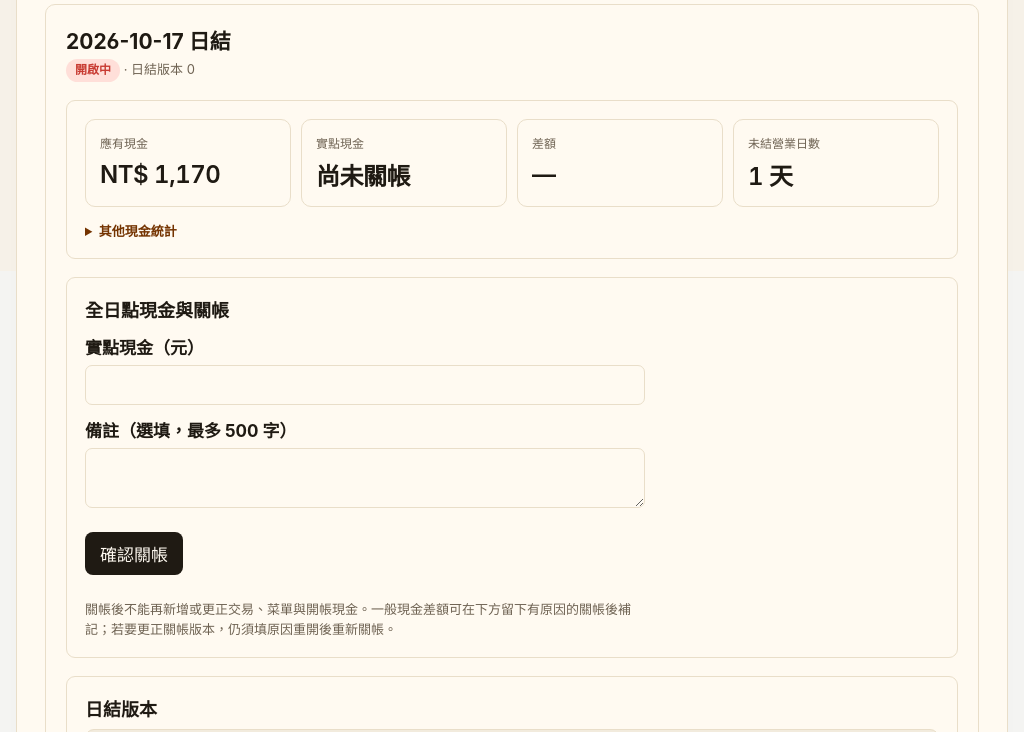
CloudDayClosePage › refuses blank, negative or fractional counted cash without sending
(page scrolled)
Submit the form named "2026-10-17 關帳", box [85,334,645,639]
Type "-5" into the field labelled "實點現金（元）" at (365, 385), box [85,365,645,405]
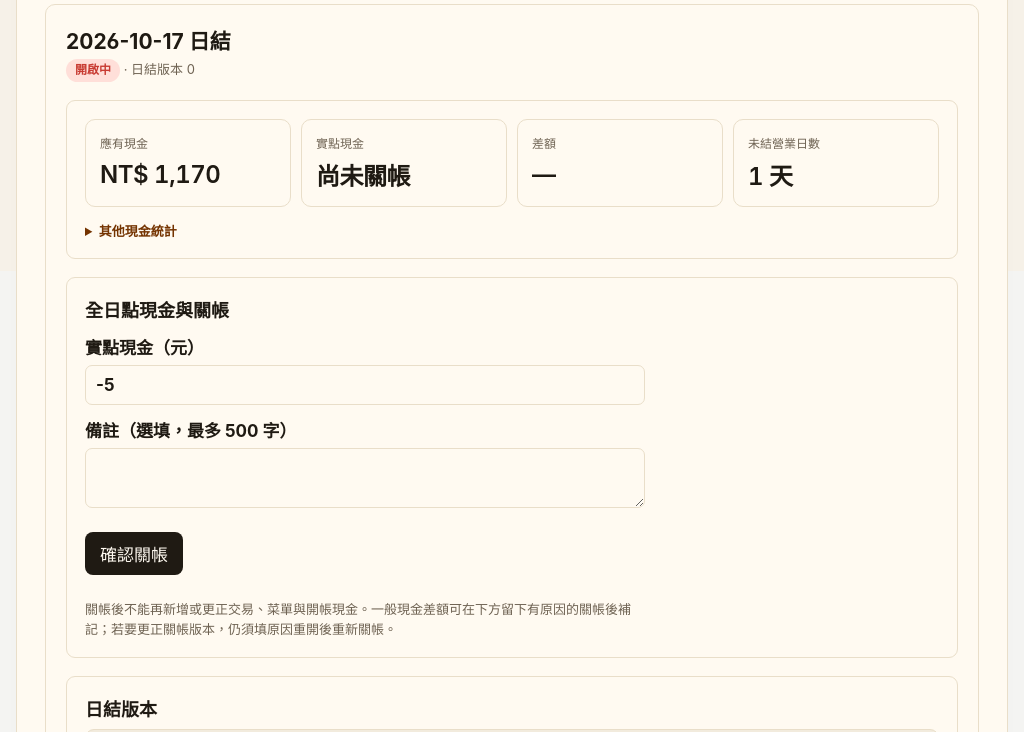
Submit the form named "2026-10-17 關帳", box [85,334,645,639]
Replace the text in the field labelled "實點現金（元）" with "10.5" at (365, 385), box [85,365,645,405]
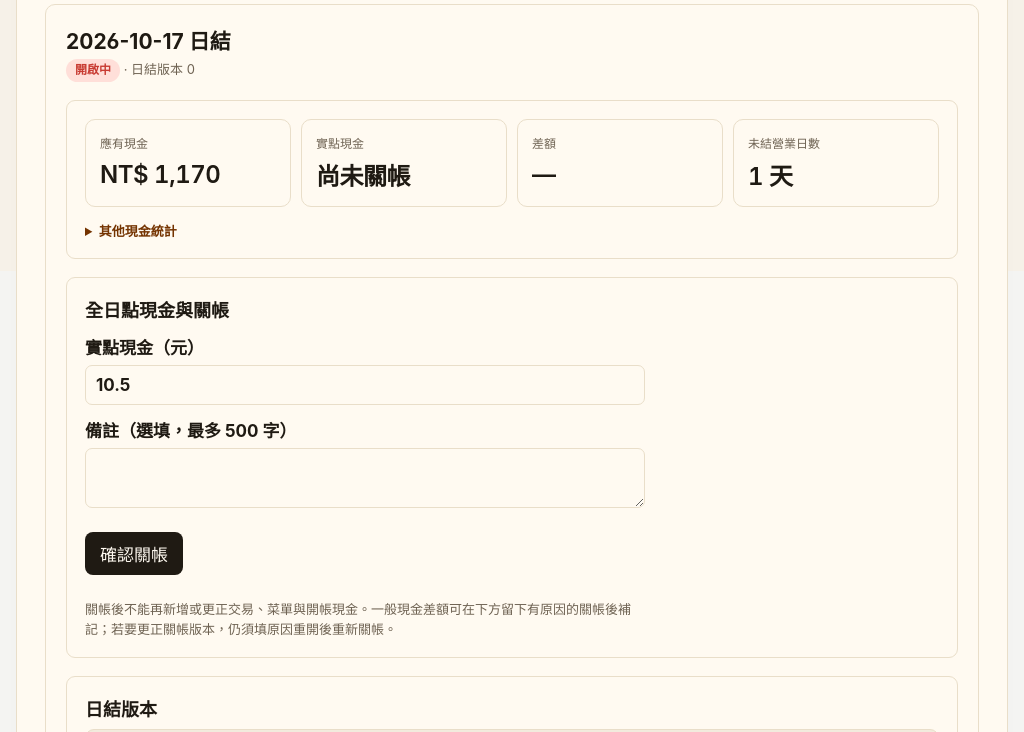
Submit the form named "2026-10-17 關帳", box [85,334,645,639]
Replace the text in the field labelled "實點現金（元）" with "abc" at (365, 385), box [85,365,645,405]
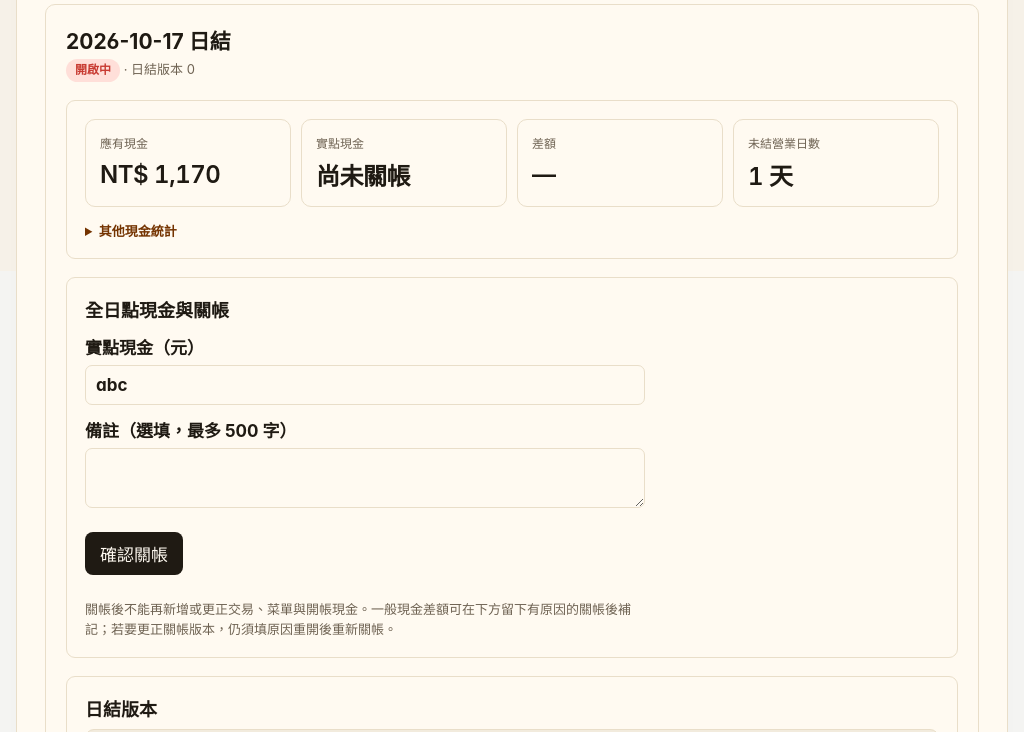
Submit the form named "2026-10-17 關帳", box [85,334,645,639]
(page scrolled)
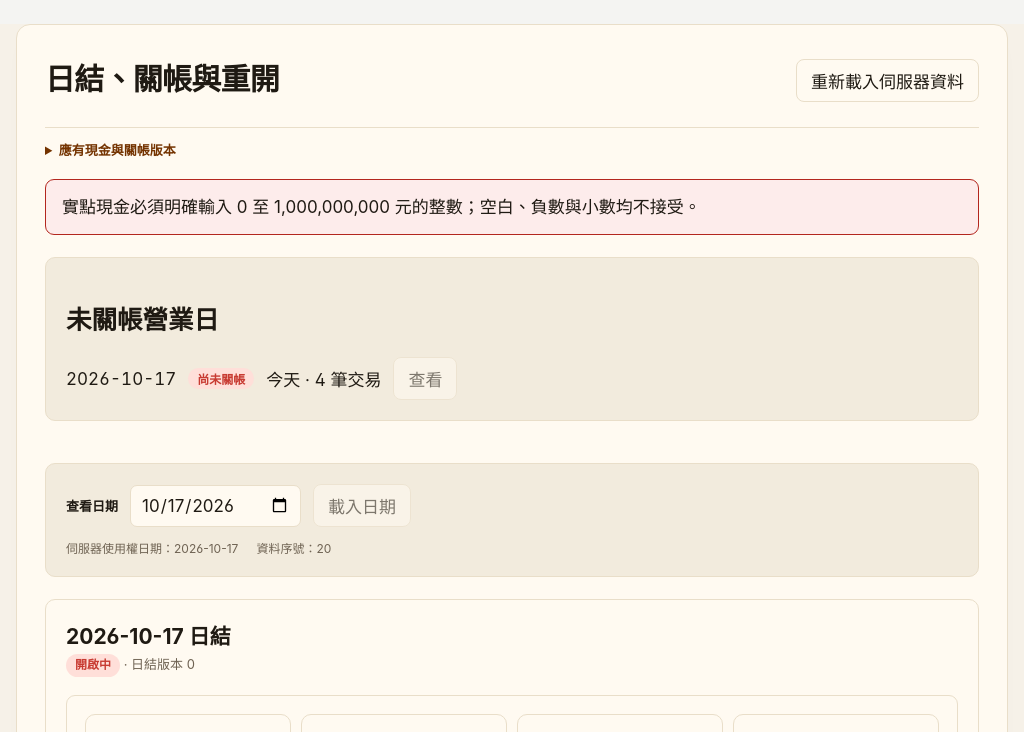
Now the text "實點現金必須明確輸入 0 至 1,000,000,000 元的整數；空白、負數與小數均不接受。" is shown, box [45,179,979,235]
